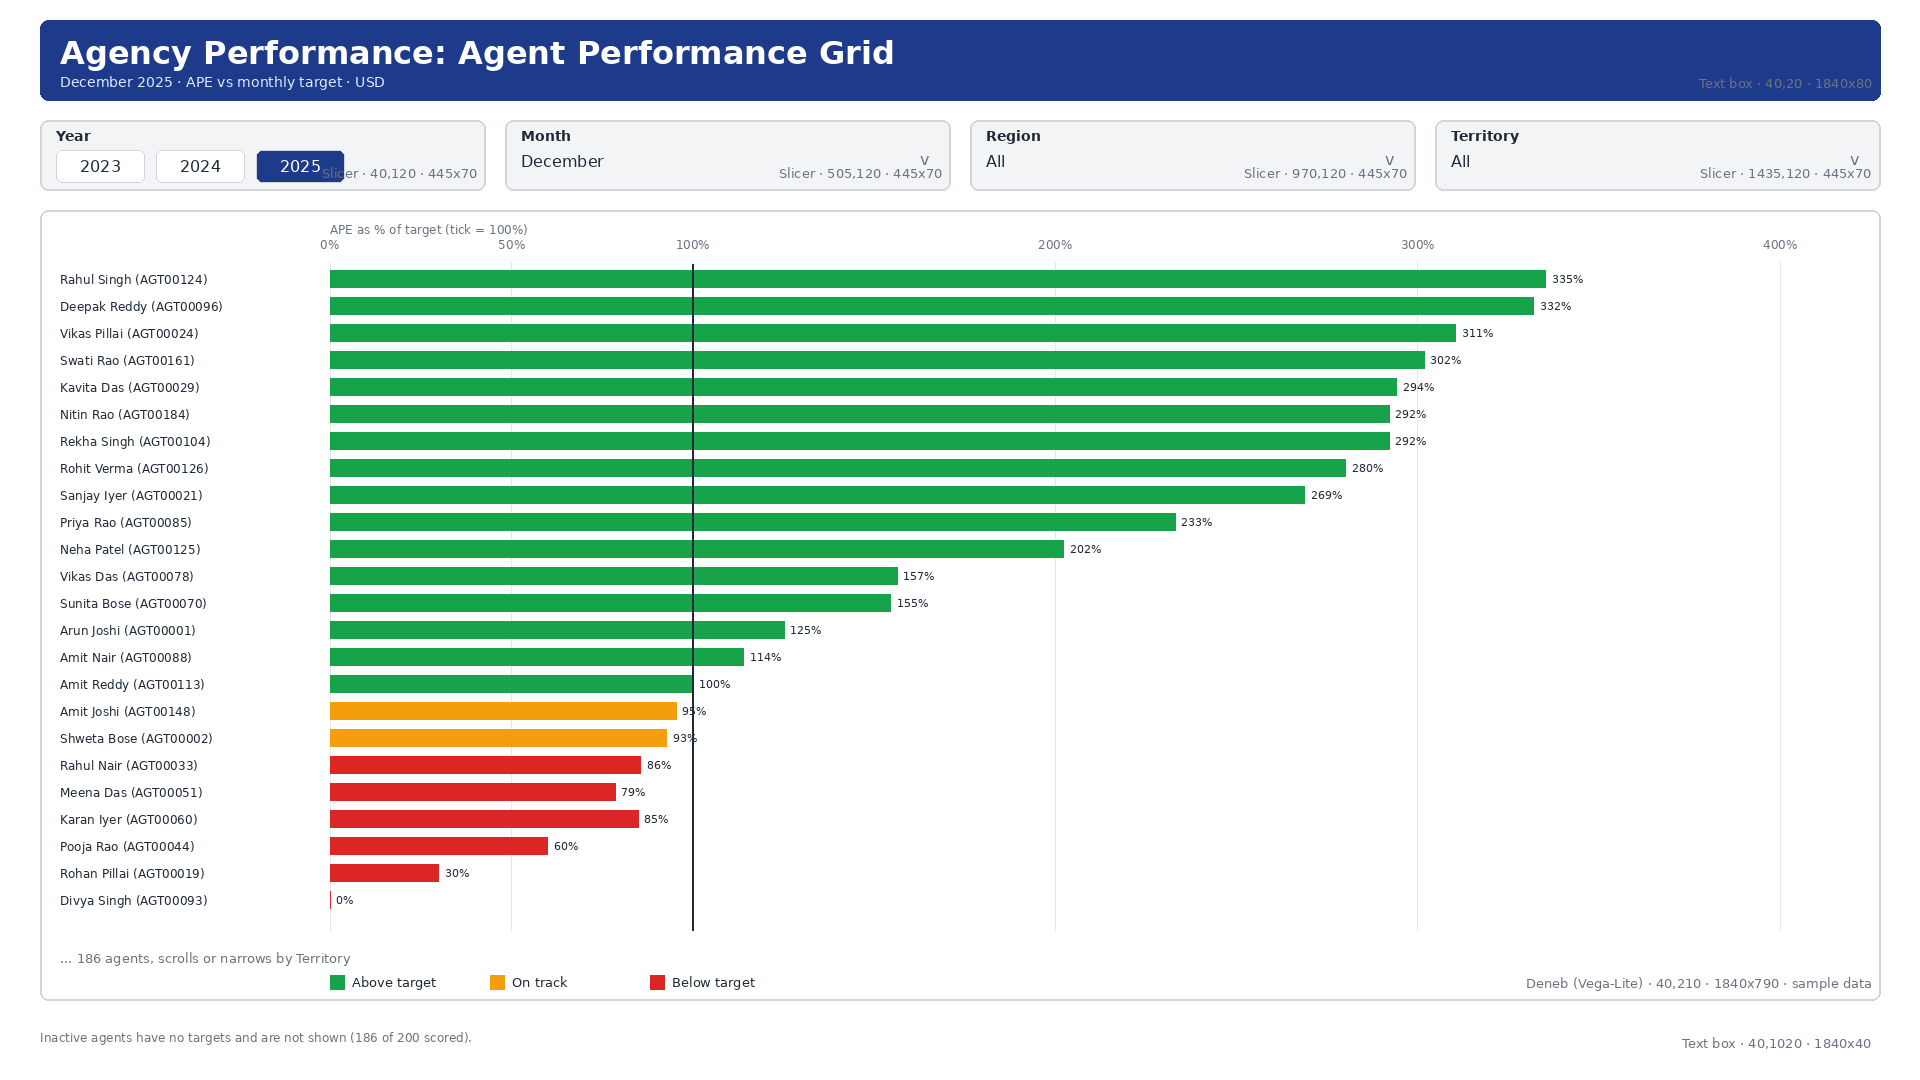

The dashboard page shown, as its layout file describes it:
{"tool":"powerbi","page":{"name":"Agent Performance Grid","canvas":[1920,1080],"ordinal":1},"visuals":[{"type":"deneb7E15AEF80B9E4D4F8E12924291ECE89A","fields":{"dataset":["dim_agent.agent_label","dim_agent.territory","_Measures.APE (chart feed)","_Measures.APE Target (chart feed)","_Measures.APE vs Target %","_Measures.Target Status"]},"box":[40,210,1840,790],"z":0},{"type":"textbox","title":"Agent Performance Grid\t","box":[40,20,1840,80],"z":1000},{"type":"slicer","fields":{"Values":["dim_agent.region"]},"box":[784,120,352,70],"z":2000},{"type":"slicer","fields":{"Values":["dim_agent.territory"]},"box":[1156,120,352,70],"z":3000},{"type":"slicer","fields":{"Values":["dim_agent.agent_label"]},"box":[1528,120,352,70],"z":3500},{"type":"slicer","fields":{"Values":["dim_date.year"]},"box":[40,120,352,70],"z":4000},{"type":"textbox","box":[40,1020,1820,40],"z":5000},{"type":"slicer","fields":{"Values":["dim_date.month_name"]},"box":[412,120,352,70],"z":6000}]}

Visuals, with their boxes in screenshot pixels (x1, y1, x2, y2), scaled from the page's 1920x1080 canvas onto the 1920x1080 screenshot:
deneb7E15AEF80B9E4D4F8E12924291ECE89A - dim_agent.agent_label x dim_agent.territory: {"left": 40, "top": 210, "right": 1880, "bottom": 1000}
"Agent Performance Grid	" textbox: {"left": 40, "top": 20, "right": 1880, "bottom": 100}
slicer - dim_agent.region: {"left": 784, "top": 120, "right": 1136, "bottom": 190}
slicer - dim_agent.territory: {"left": 1156, "top": 120, "right": 1508, "bottom": 190}
slicer - dim_agent.agent_label: {"left": 1528, "top": 120, "right": 1880, "bottom": 190}
slicer - dim_date.year: {"left": 40, "top": 120, "right": 392, "bottom": 190}
textbox: {"left": 40, "top": 1020, "right": 1860, "bottom": 1060}
slicer - dim_date.month_name: {"left": 412, "top": 120, "right": 764, "bottom": 190}
